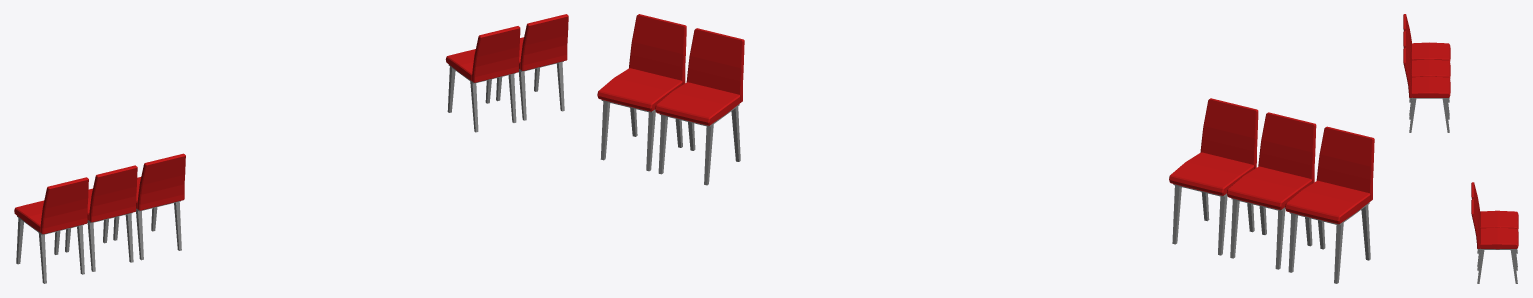
The model's file is SK5_Chairs.FBX.
3 views of the same model, side by side, from view 1: azimuth 30°, elevation 25°; view 2: azimuth 150°, elevation 25°; view 3: azimuth 270°, elevation 25° (orthographic). The views are drawn at different scales.
Parts seen in each view (by area): view 1: SK5_Chair_Instance_1_jp614, SK5_Chair_Instance_1_jp616, SK5_Chair_Instance_1_jp613, SK5_Chair_Instance_1_jp612, SK5_Chair_Instance_1_jp615; view 2: SK5_Chair_Instance_1_jp614, SK5_Chair_Instance_1_jp616, SK5_Chair_Instance_1_jp613, SK5_Chair_Instance_1_jp615, SK5_Chair_Instance_1_jp612; view 3: SK5_Chair_Instance_1_jp612, SK5_Chair_Instance_1_jp615, SK5_Chair_Instance_1_jp616, SK5_Chair_Instance_1_jp613, SK5_Chair_Instance_1_jp614.
Part boxes in pixels (x1,y1,x2,y2): SK5_Chair_Instance_1_jp614: [14, 177, 88, 283]; SK5_Chair_Instance_1_jp616: [445, 26, 520, 132]; SK5_Chair_Instance_1_jp613: [65, 165, 137, 271]; SK5_Chair_Instance_1_jp612: [113, 153, 185, 260]; SK5_Chair_Instance_1_jp615: [496, 14, 568, 120]; SK5_Chair_Instance_1_jp614: [1285, 126, 1374, 283]; SK5_Chair_Instance_1_jp616: [655, 28, 744, 185]; SK5_Chair_Instance_1_jp613: [1227, 112, 1316, 269]; SK5_Chair_Instance_1_jp615: [597, 14, 686, 171]; SK5_Chair_Instance_1_jp612: [1169, 98, 1258, 255]; SK5_Chair_Instance_1_jp612: [1403, 48, 1450, 132]; SK5_Chair_Instance_1_jp615: [1471, 199, 1518, 283]; SK5_Chair_Instance_1_jp616: [1471, 182, 1518, 266]; SK5_Chair_Instance_1_jp613: [1403, 31, 1450, 115]; SK5_Chair_Instance_1_jp614: [1403, 14, 1450, 98].
Bounding box in the file's own units: 575 × 94.33 × 139.
